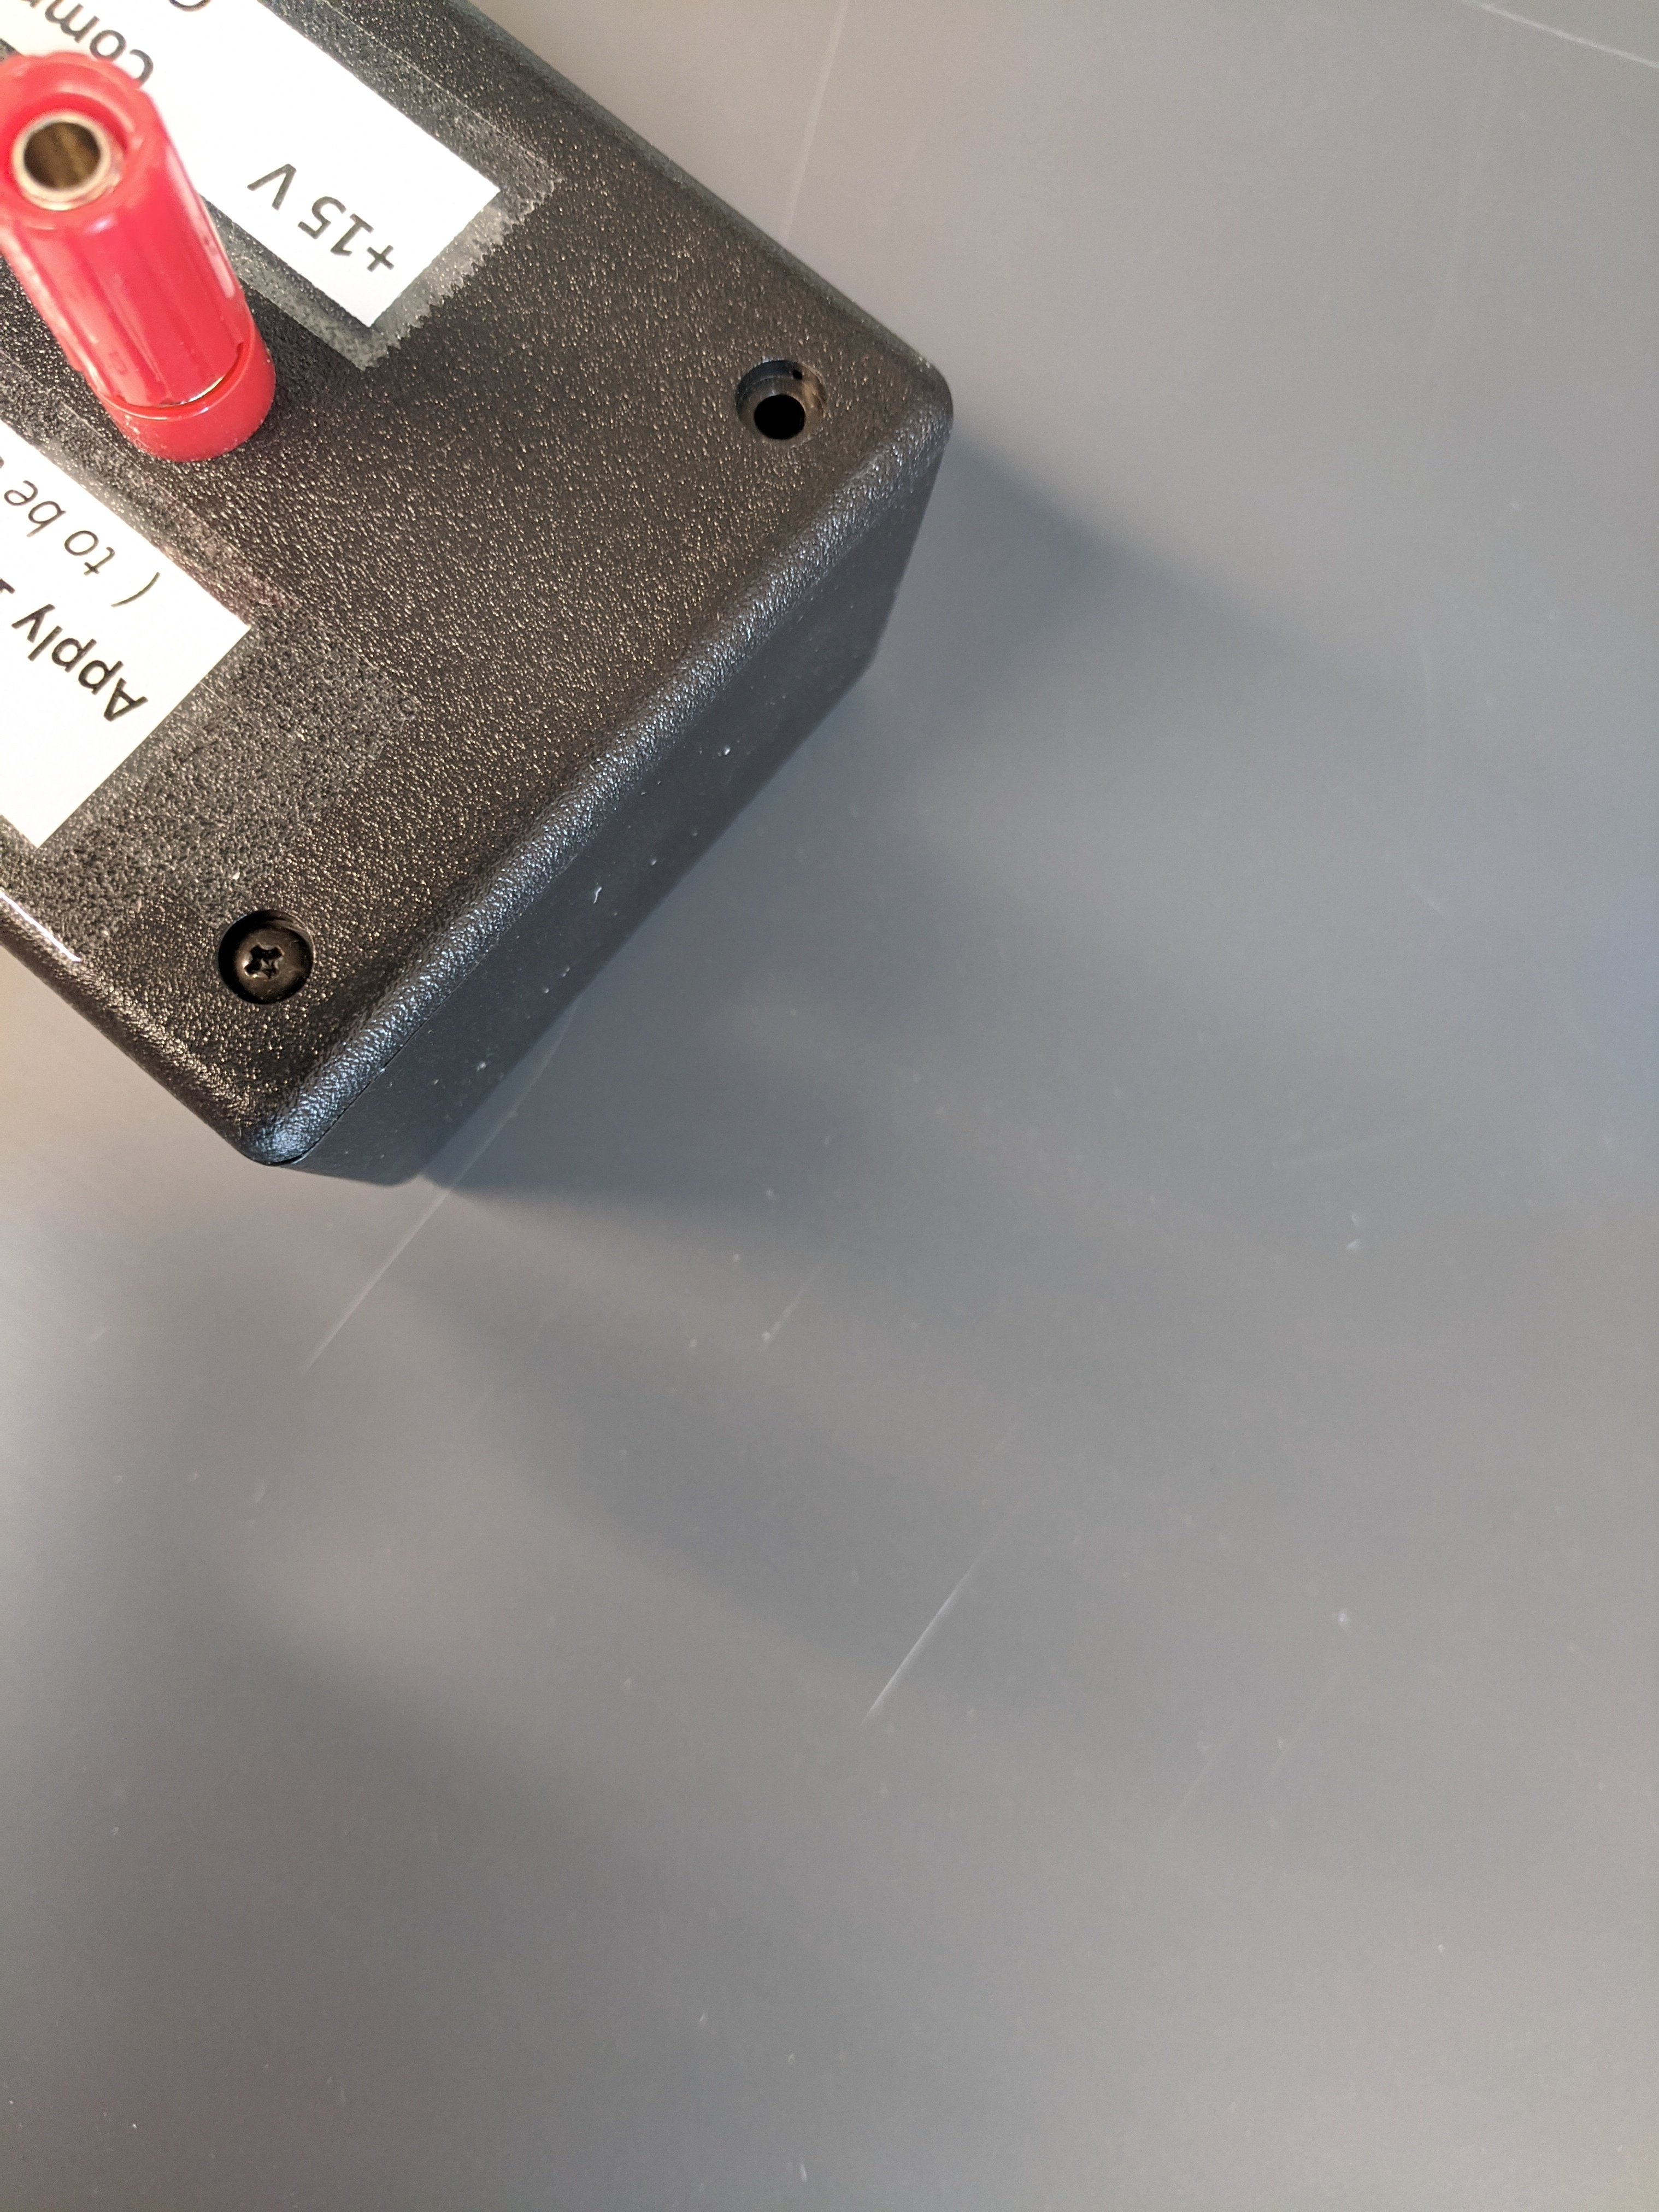cross_recessed_screw: (209, 907, 308, 993)
